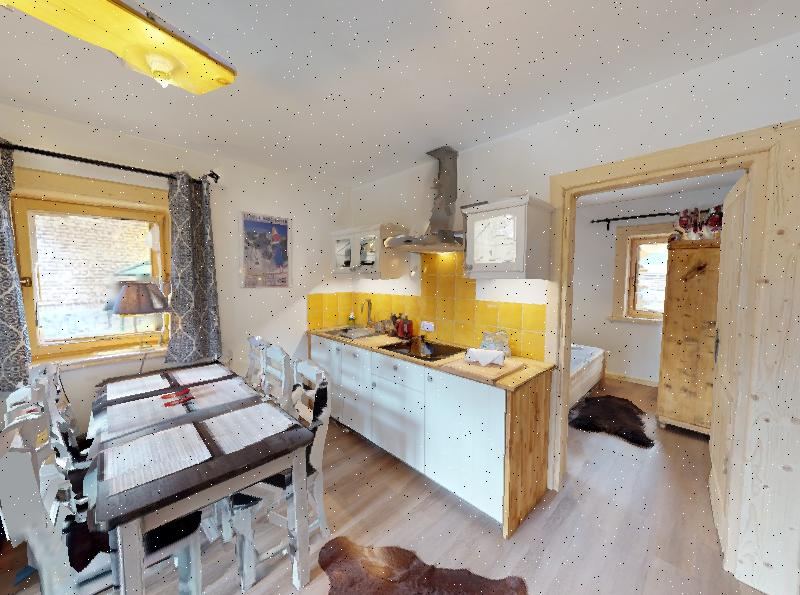chair: (231, 349, 334, 586)
door-frame: (539, 132, 770, 555)
table: (86, 326, 329, 595)
